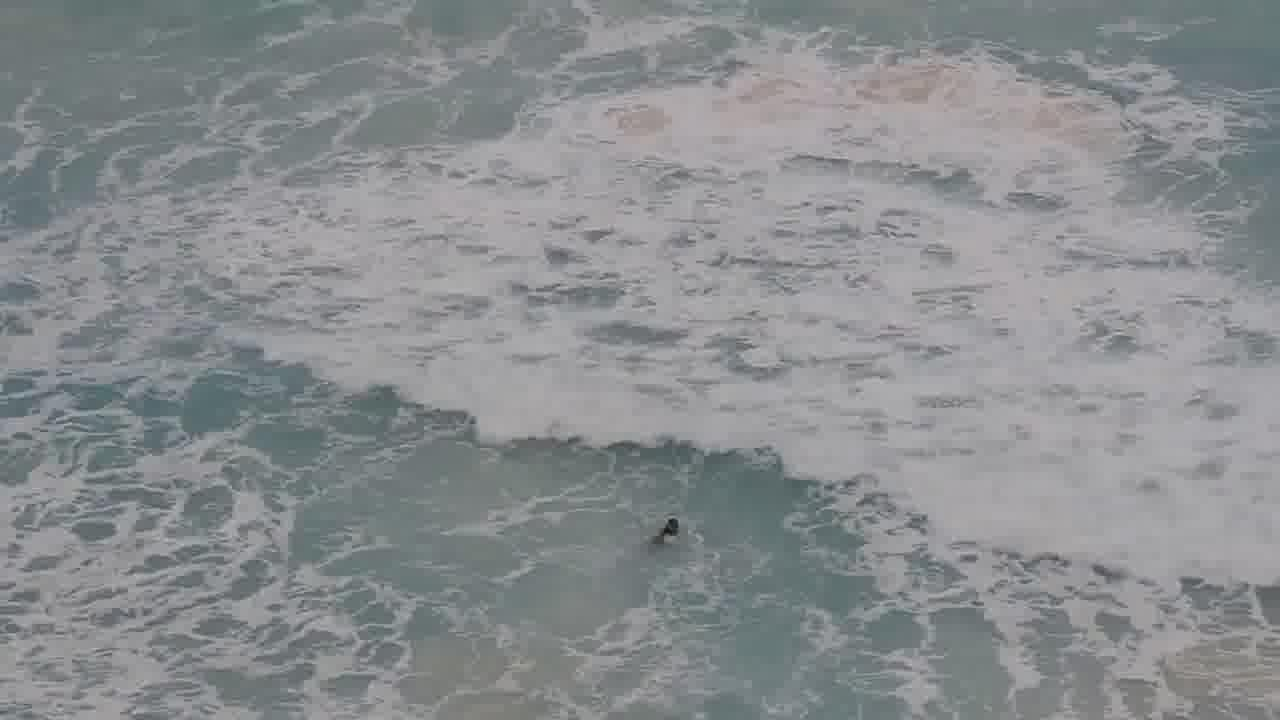human: (635, 502, 694, 554)
